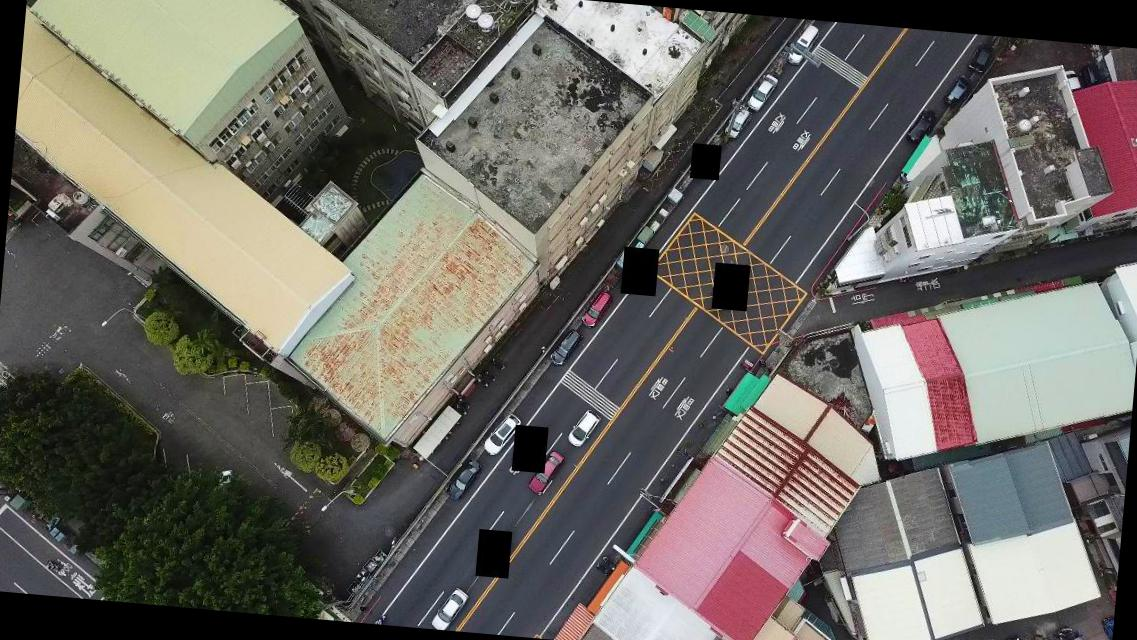vehicle: (429, 584, 470, 632), (483, 408, 523, 457), (526, 448, 564, 499), (444, 457, 482, 504), (566, 405, 602, 450), (786, 24, 820, 68), (548, 326, 583, 368), (903, 106, 937, 146), (580, 288, 612, 330), (747, 71, 778, 113), (940, 72, 973, 109), (724, 105, 752, 142), (965, 42, 994, 75), (1061, 68, 1083, 91), (1082, 64, 1100, 87)
